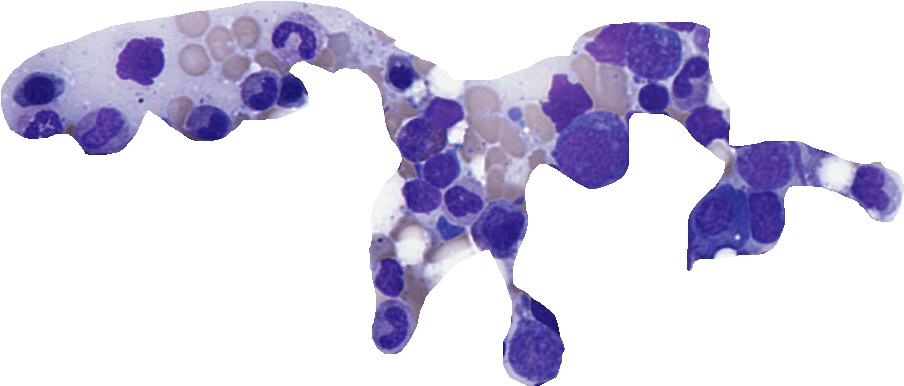objectness: (695, 195, 745, 245), (851, 163, 901, 213), (17, 97, 67, 147), (271, 9, 321, 59), (370, 301, 420, 351), (436, 172, 486, 222), (472, 203, 522, 253), (395, 112, 445, 162), (74, 104, 124, 154), (180, 100, 230, 150), (666, 53, 716, 103), (235, 66, 285, 116), (629, 26, 679, 76), (567, 126, 617, 176), (742, 137, 792, 187), (511, 326, 561, 376), (586, 17, 636, 67), (419, 85, 469, 135), (740, 190, 790, 240), (365, 253, 415, 303), (539, 76, 589, 126), (681, 98, 731, 148), (116, 37, 166, 87), (395, 171, 445, 221), (418, 145, 468, 195), (628, 74, 678, 124), (376, 48, 426, 98), (265, 64, 315, 114), (11, 62, 61, 112)
